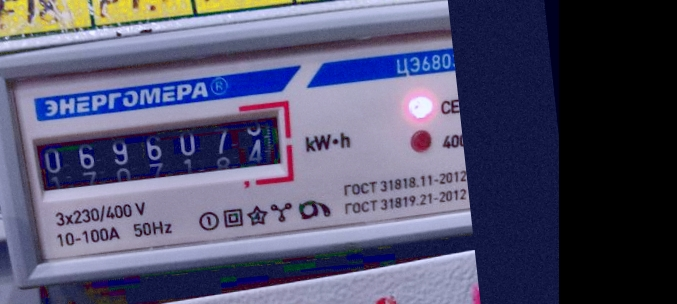0: (176, 127, 197, 158), (42, 145, 62, 175)
4: (244, 134, 264, 165)
6: (143, 131, 163, 162), (76, 141, 96, 170)
7: (210, 124, 232, 157)
9: (108, 137, 129, 167)
screen: (17, 96, 302, 209)
